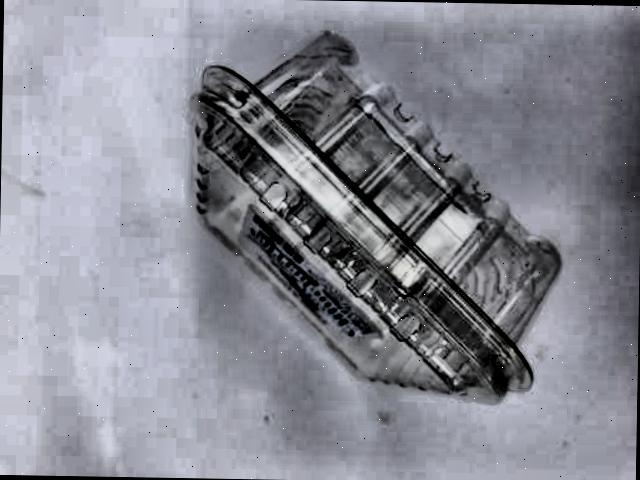Plastic: (170, 19, 579, 400)
